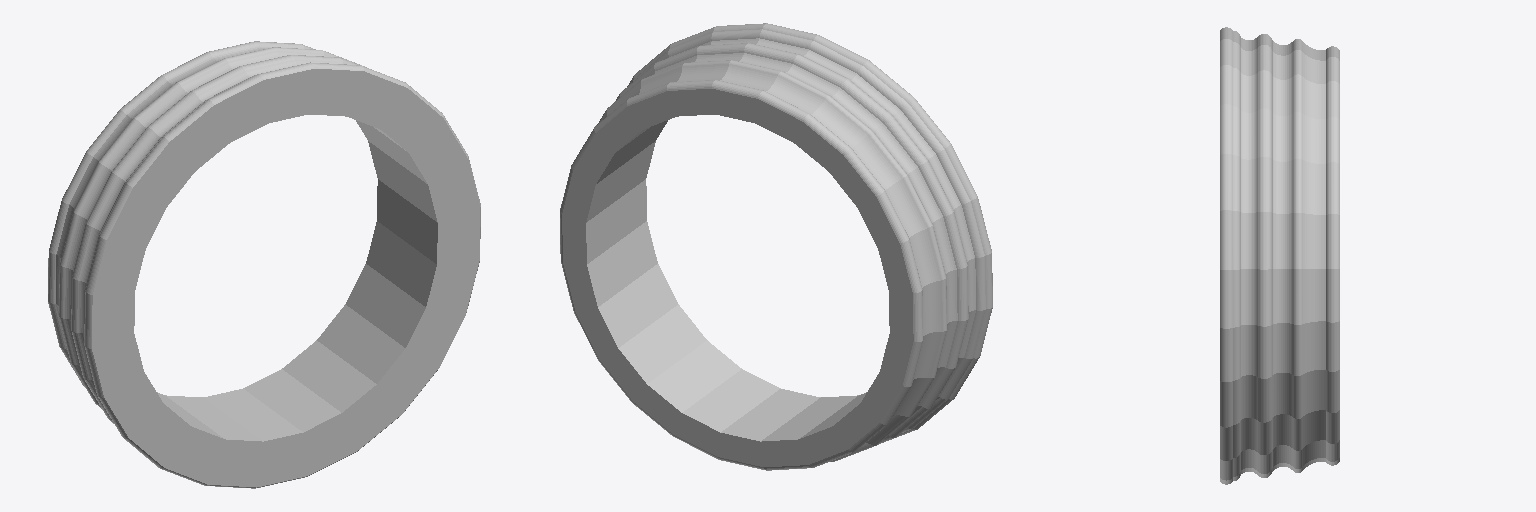
Rendered from ustje_centered.obj.
The picture shows the model from 3 angles: view 1: azimuth 30°, elevation 25°; view 2: azimuth 150°, elevation 25°; view 3: azimuth 270°, elevation 25°; orthographic projection.
Parts seen in each view (by area): view 1: animacija-SKP-Default_Material; view 2: animacija-SKP-Default_Material; view 3: animacija-SKP-Default_Material.
Part boxes in pixels (x1,y1,x2,y2): animacija-SKP-Default_Material: (48, 41, 480, 488); animacija-SKP-Default_Material: (560, 23, 992, 470); animacija-SKP-Default_Material: (1220, 27, 1339, 484).
Size of the model in its own units: 0.2798 by 0.2798 by 0.074.